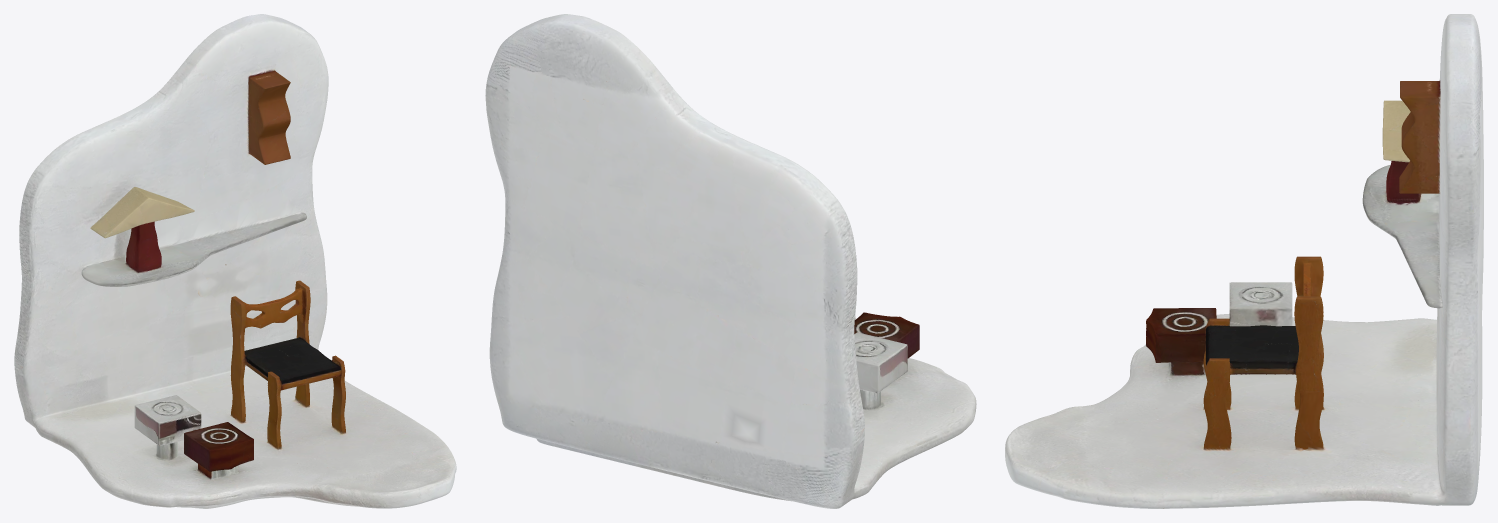
The model's file is Meshy_AI_White_Studio_with_Min_0521070842_texture.glb.
3 views of the same model, side by side, from view 1: azimuth 30°, elevation 25°; view 2: azimuth 150°, elevation 25°; view 3: azimuth 270°, elevation 25° (orthographic). The views are drawn at different scales.
Bounding box in the file's own units: 1.69 × 1.9 × 1.79.
1 material, 1 textured.
